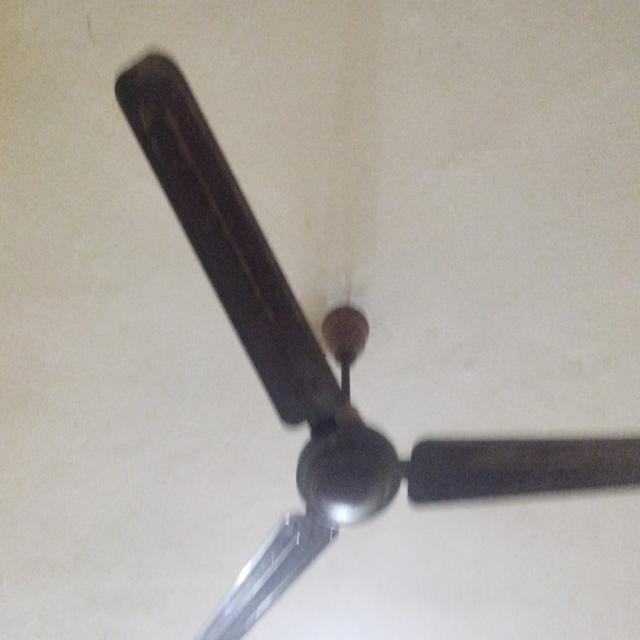fan_off: (113, 49, 640, 640)
